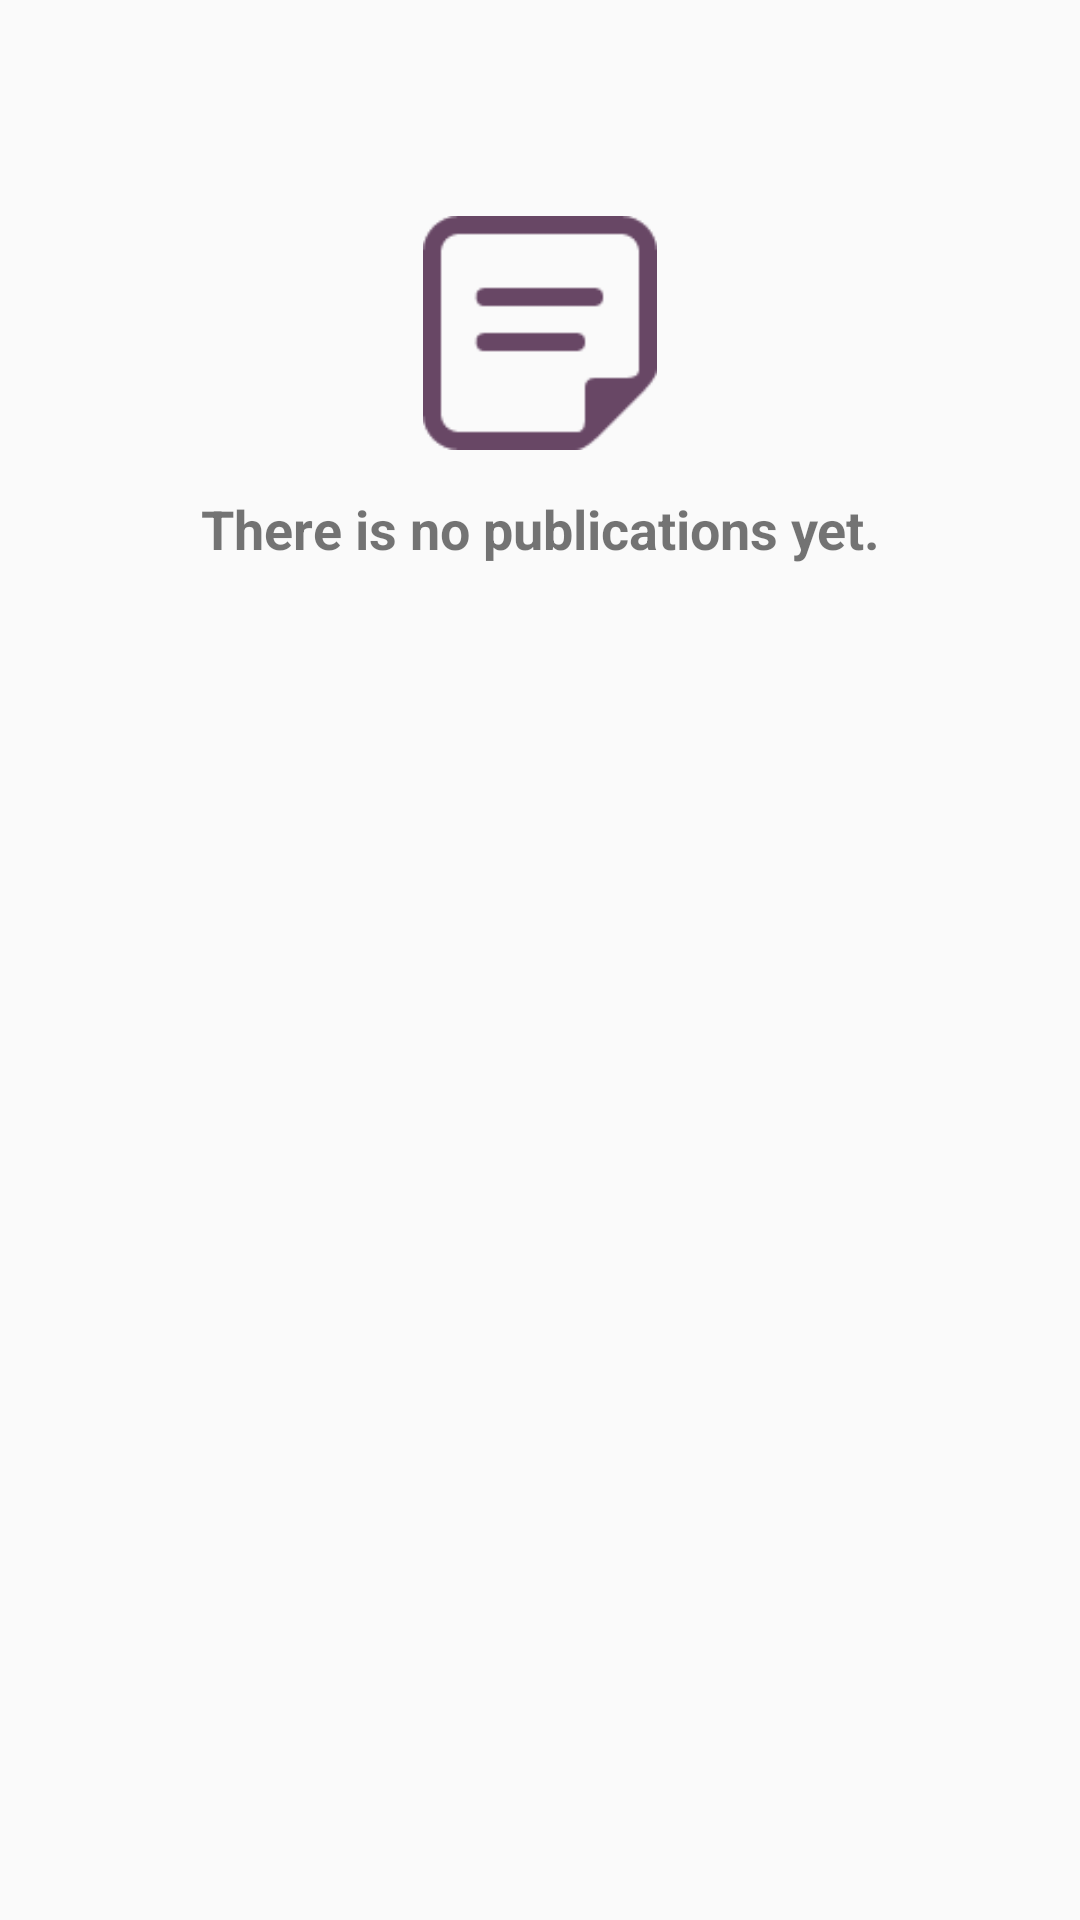

Icons on this 1080px×1920px Android screen, each with its box as [left=x1, top=y1, right=x2, bottom=y2]:
note: [left=423, top=216, right=657, bottom=450]
